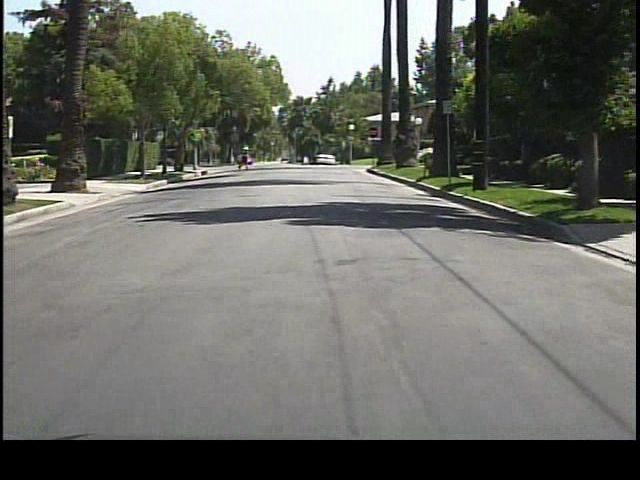person: (238, 141, 253, 173)
